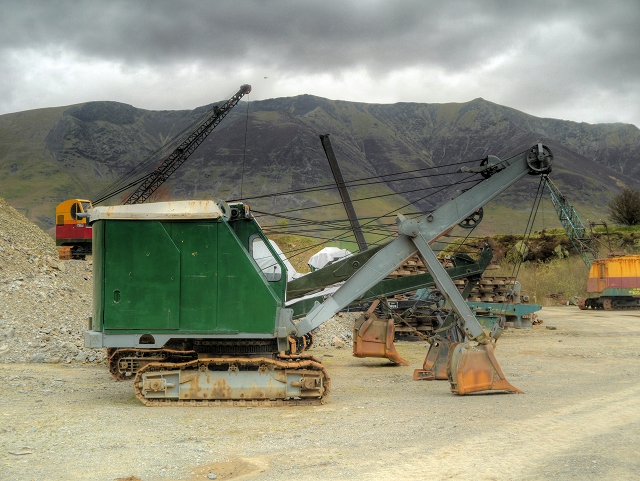excavator: (88, 138, 554, 409)
